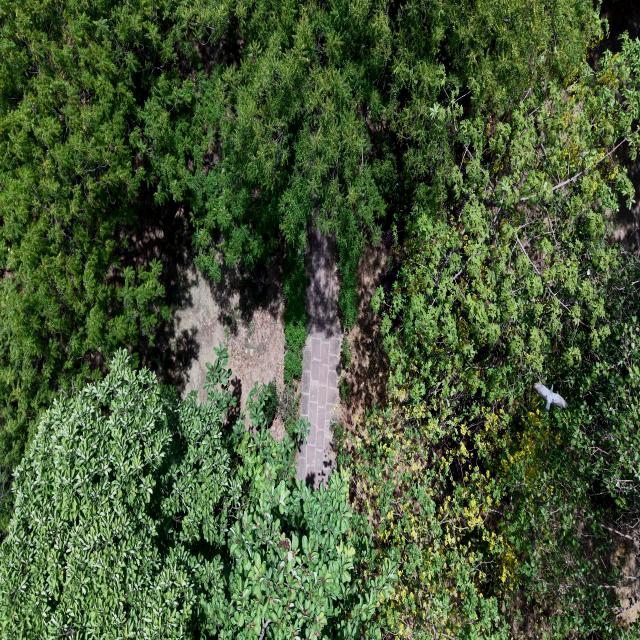DRY_AREA: (123, 188, 284, 409), (122, 190, 284, 409), (123, 189, 284, 406), (123, 202, 284, 411), (133, 190, 284, 409), (146, 220, 284, 405), (297, 224, 391, 487), (298, 226, 393, 486), (298, 224, 392, 485), (297, 224, 390, 487), (297, 224, 389, 487), (174, 248, 284, 410), (175, 259, 284, 409), (336, 228, 397, 467), (340, 232, 401, 447), (340, 232, 401, 445), (340, 241, 393, 454), (341, 239, 394, 441), (341, 240, 392, 435), (121, 189, 194, 308), (297, 333, 341, 487), (174, 273, 225, 400), (600, 511, 639, 625), (609, 145, 639, 250), (610, 144, 639, 250), (611, 144, 639, 250), (610, 523, 639, 624)
PATHWAYS: (297, 223, 341, 487)
VEGETATION_TREE: (0, 0, 639, 639), (0, 1, 599, 472), (0, 1, 388, 482), (353, 5, 639, 637), (144, 0, 601, 327), (0, 349, 385, 639), (0, 1, 169, 486), (145, 0, 394, 323), (403, 0, 603, 113)
